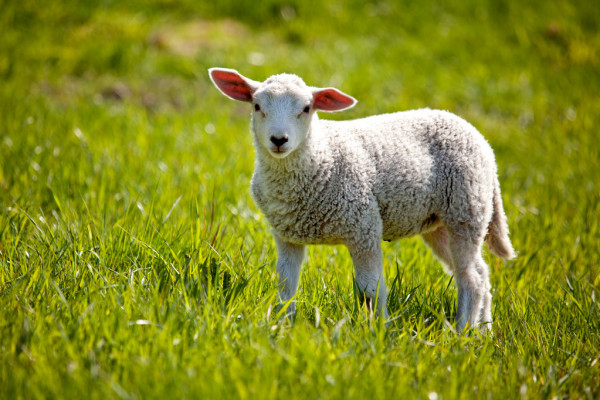koyun: (204, 66, 517, 340)
